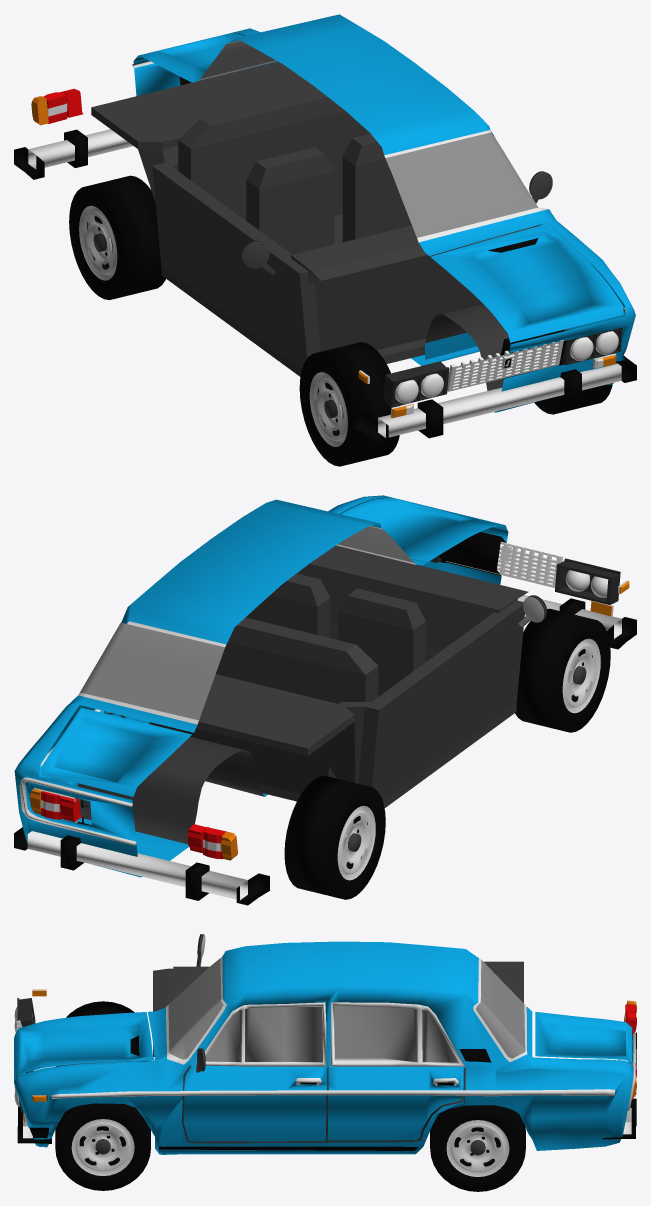
The model's file is lada2.glb.
3 views of the same model, one above another, from view 1: azimuth 30°, elevation 25°; view 2: azimuth 150°, elevation 25°; view 3: azimuth 270°, elevation 25° (orthographic). The views are drawn at different scales.
Visible parts, largest first — view 1: Плоскость.001, Куб.019, Куб.020, Куб.023, Цилиндр.003, Цилиндр.002, Куб.022, Куб.007, Куб.021, Куб.017, Куб.004, Плоскость.002 (+3 smaller); view 2: Плоскость.001, Куб.019, Цилиндр.003, Куб.020, Цилиндр.002, Куб.023, Куб.022, Куб.017, Куб.021, Куб.004, Плоскость.002, Куб.007 (+1 smaller); view 3: Плоскость.001, Цилиндр, Цилиндр.001, Куб.019, Куб.020, Цилиндр.002, Куб.007, Куб.017, Плоскость.002.
Part boxes in pixels (x1,y1,x2,y2): Плоскость.001: [132, 14, 635, 412]; Куб.019: [91, 61, 539, 376]; Куб.020: [291, 225, 534, 363]; Куб.023: [178, 90, 370, 244]; Цилиндр.003: [69, 175, 165, 299]; Цилиндр.002: [299, 342, 399, 466]; Куб.022: [246, 147, 334, 254]; Куб.007: [354, 356, 636, 443]; Куб.021: [342, 133, 411, 242]; Куб.017: [14, 129, 132, 179]; Куб.004: [447, 340, 563, 391]; Плоскость.002: [383, 361, 449, 407]; Плоскость.001: [14, 495, 508, 877]; Куб.019: [149, 600, 524, 807]; Цилиндр.003: [284, 775, 385, 899]; Куб.020: [297, 545, 528, 715]; Цилиндр.002: [515, 608, 610, 732]; Куб.023: [216, 617, 378, 703]; Куб.022: [338, 588, 425, 696]; Куб.017: [14, 827, 269, 905]; Куб.021: [245, 573, 330, 637]; Куб.004: [445, 542, 563, 587]; Плоскость.002: [555, 558, 620, 604]; Куб.007: [517, 595, 636, 649]; Плоскость.001: [14, 941, 635, 1154]; Цилиндр: [430, 1105, 525, 1191]; Цилиндр.001: [55, 1103, 150, 1190]; Куб.019: [173, 961, 523, 1143]; Куб.020: [153, 967, 202, 1142]; Цилиндр.002: [56, 1001, 147, 1066]; Куб.007: [17, 1070, 51, 1143]; Куб.017: [602, 1032, 636, 1139]; Плоскость.002: [17, 998, 35, 1026].
Size of the model in its own units: 0.9854 by 0.7325 by 2.09.
